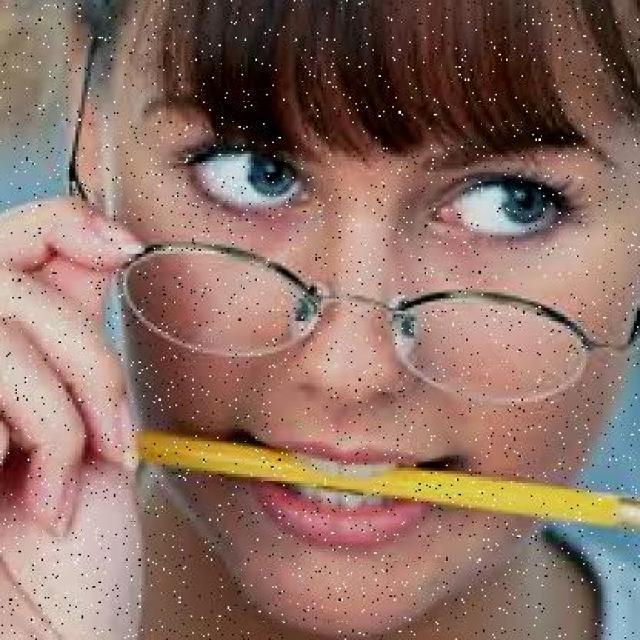mask: (102, 223, 635, 414)
